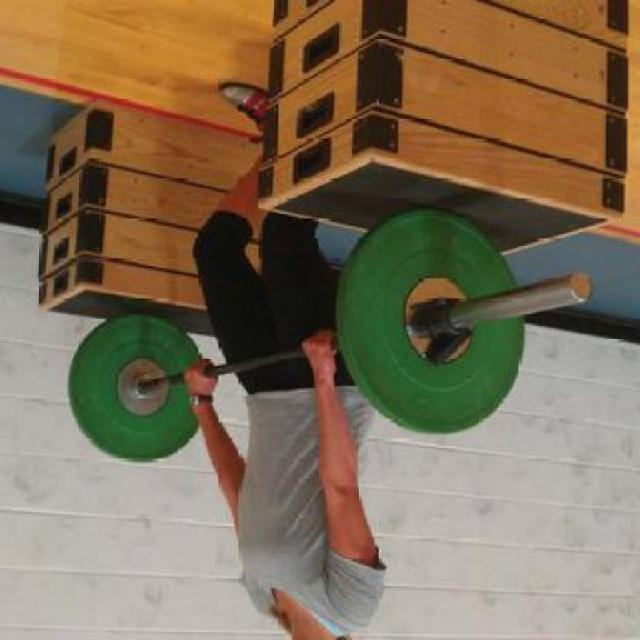Barbell: (566, 268, 594, 306)
